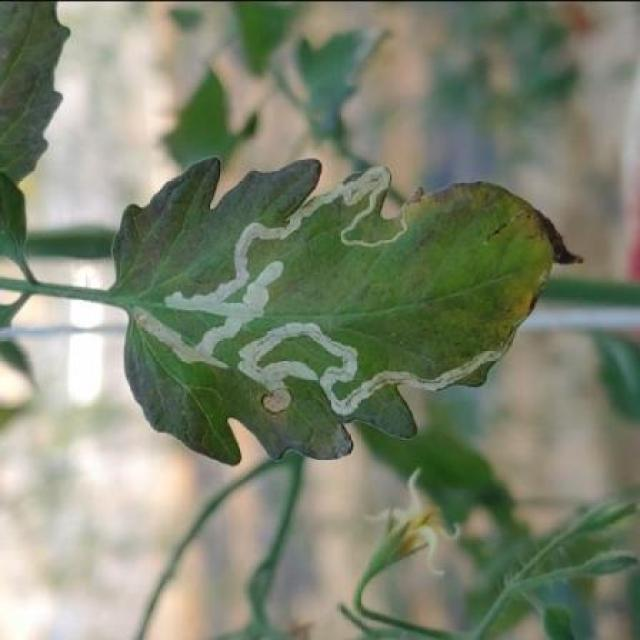Leaf Miner: (106, 154, 588, 469)
